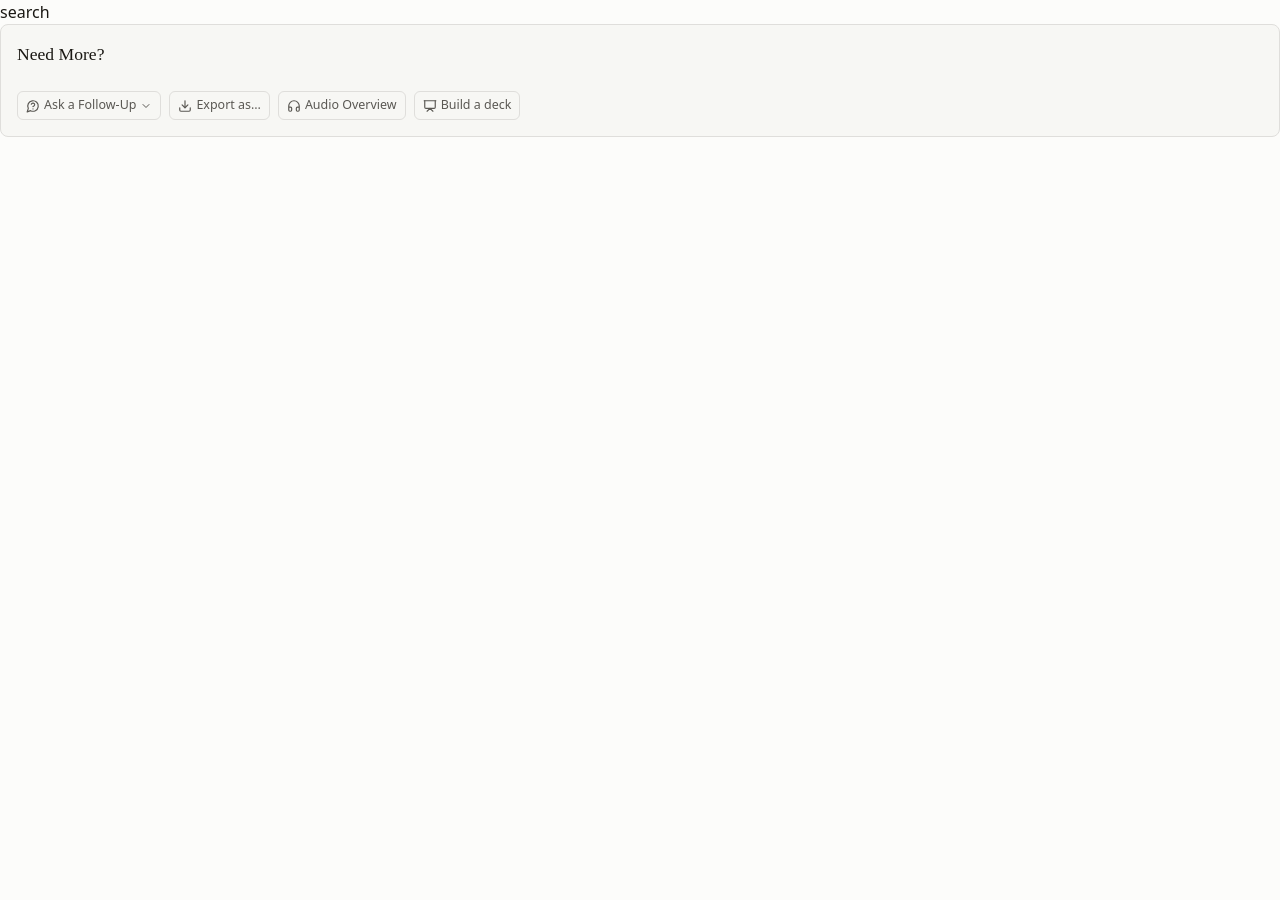
Test: NeedMoreCard › gives every report action dialog a Radix-backed accessible name
Step 1. Click the button "Export as…" → (220, 106), box [169,91,270,120]
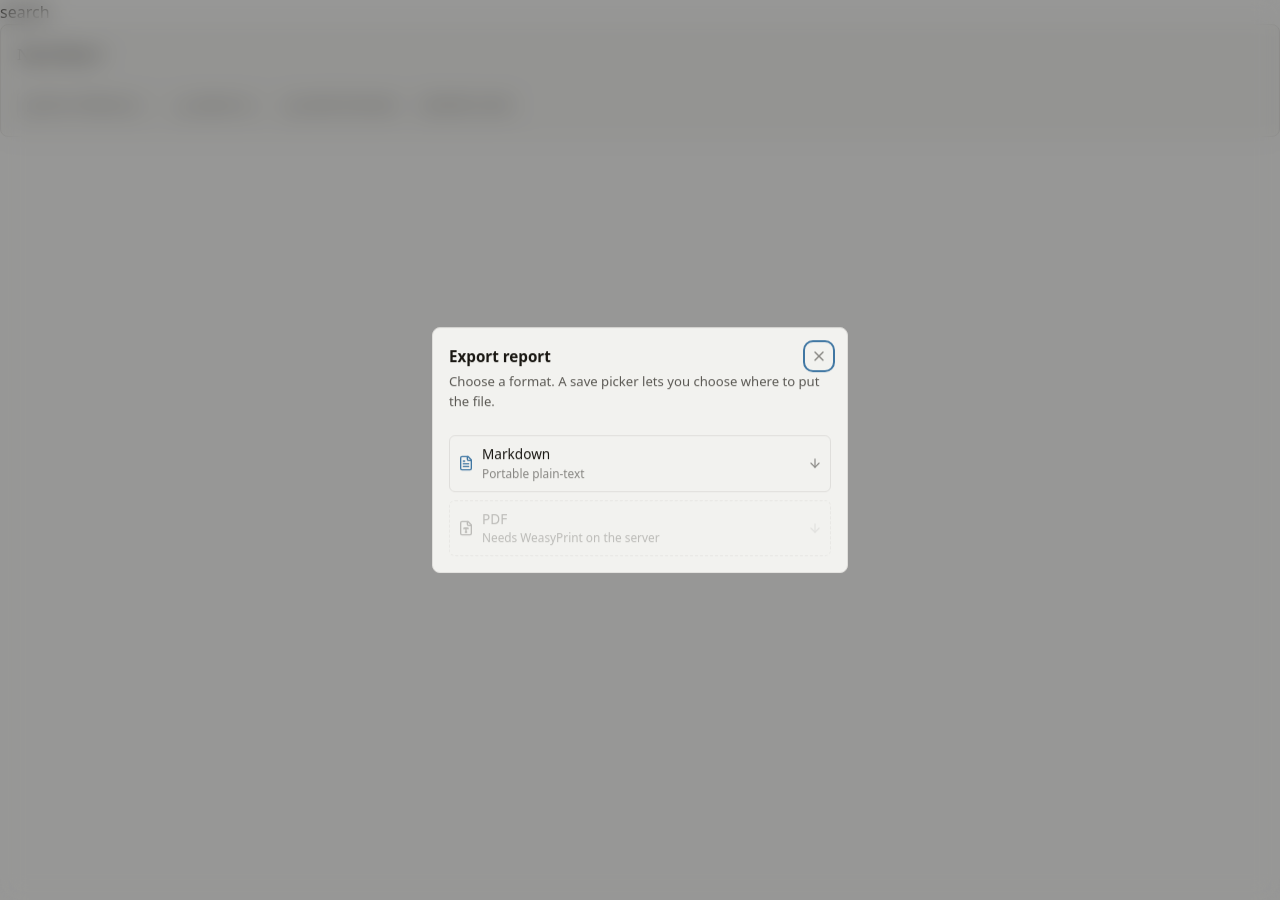
expect the heading "Export report" is shown: met, box [449,345,551,368]
Step 2. Click the button named "Close export dialog" → (819, 356), box [807,344,831,368]
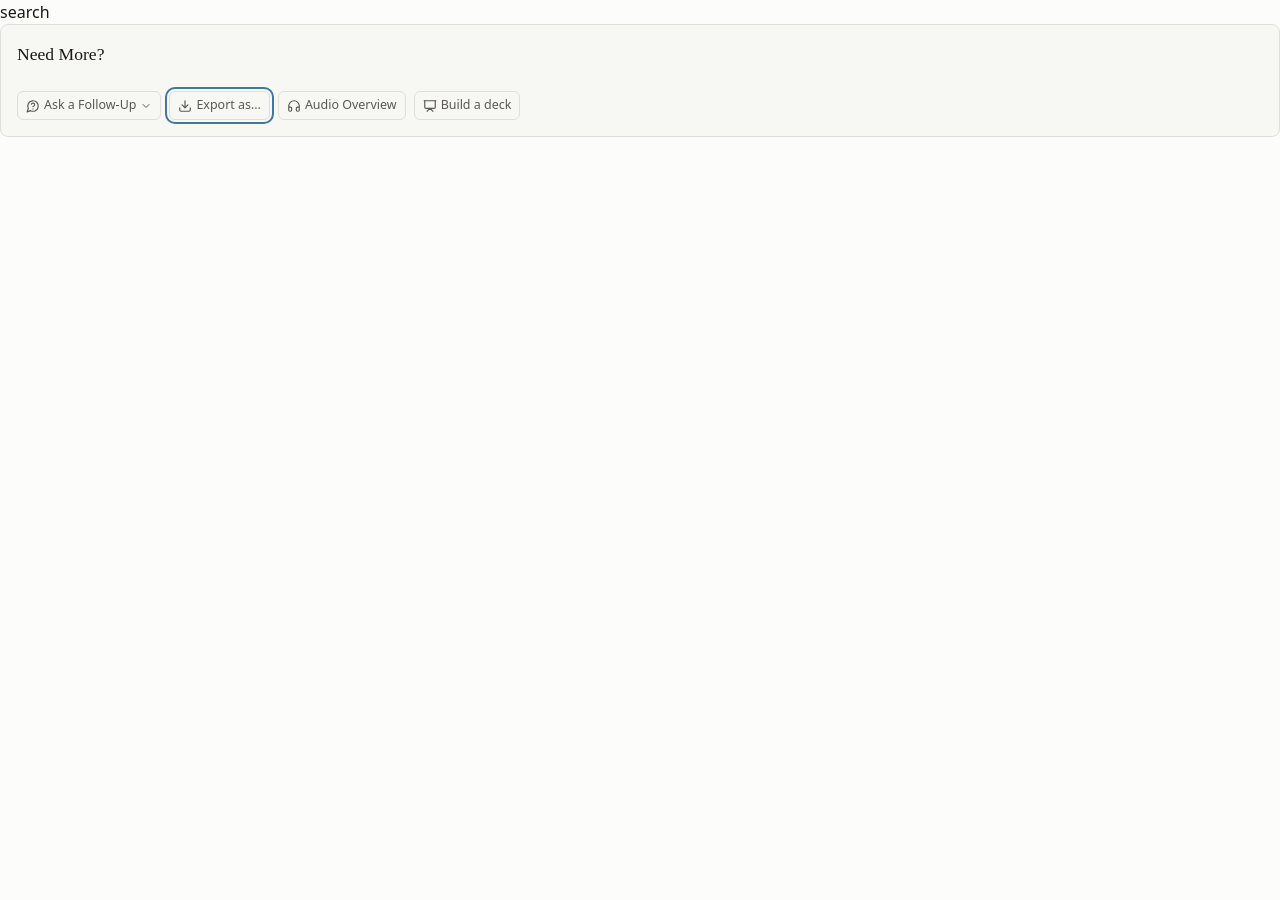
expect the heading "Export report" is gone: met
Step 3. Click the button "Audio Overview" → (342, 106), box [278,91,406,120]
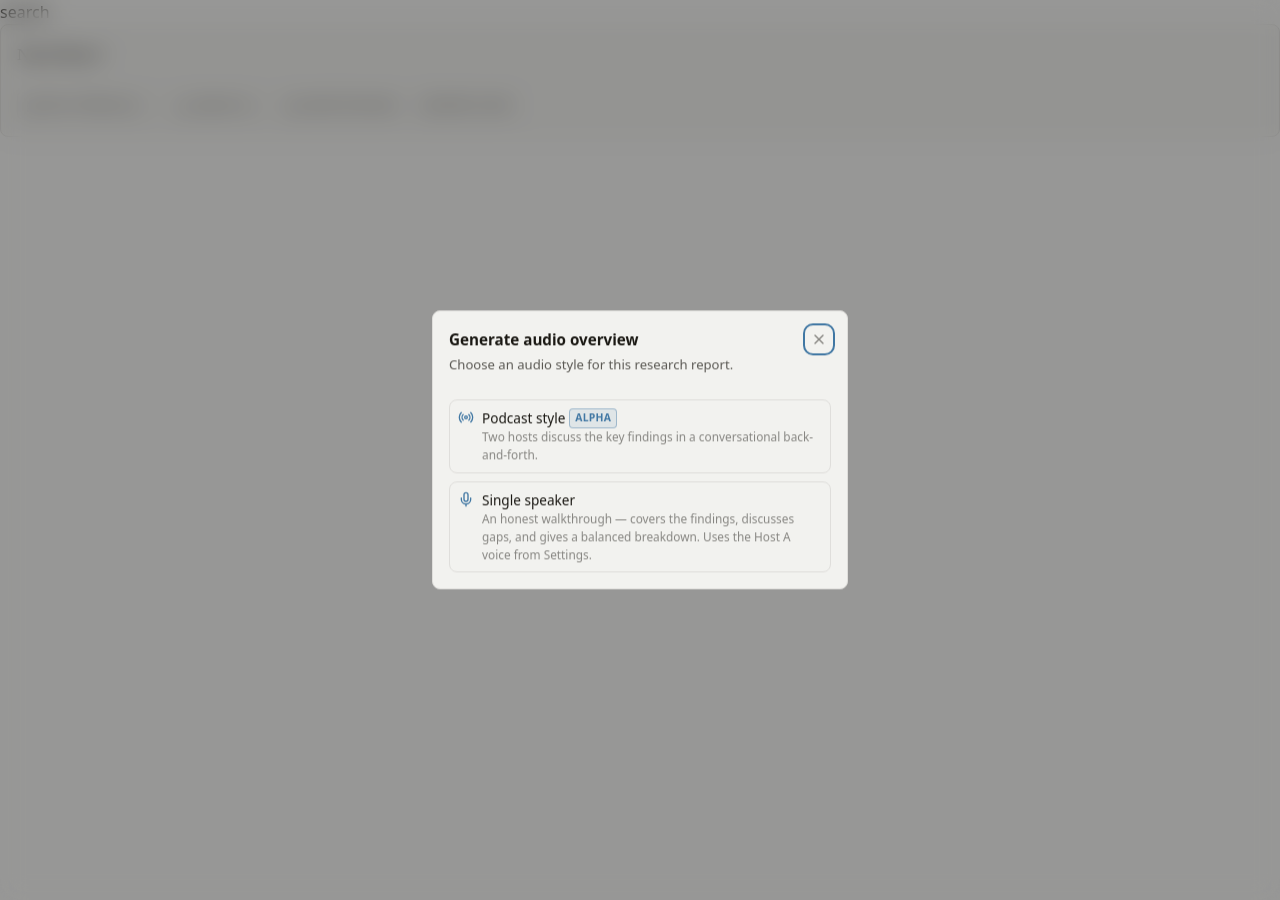
expect the heading "Generate audio overview" is shown: met, box [449,328,638,351]
